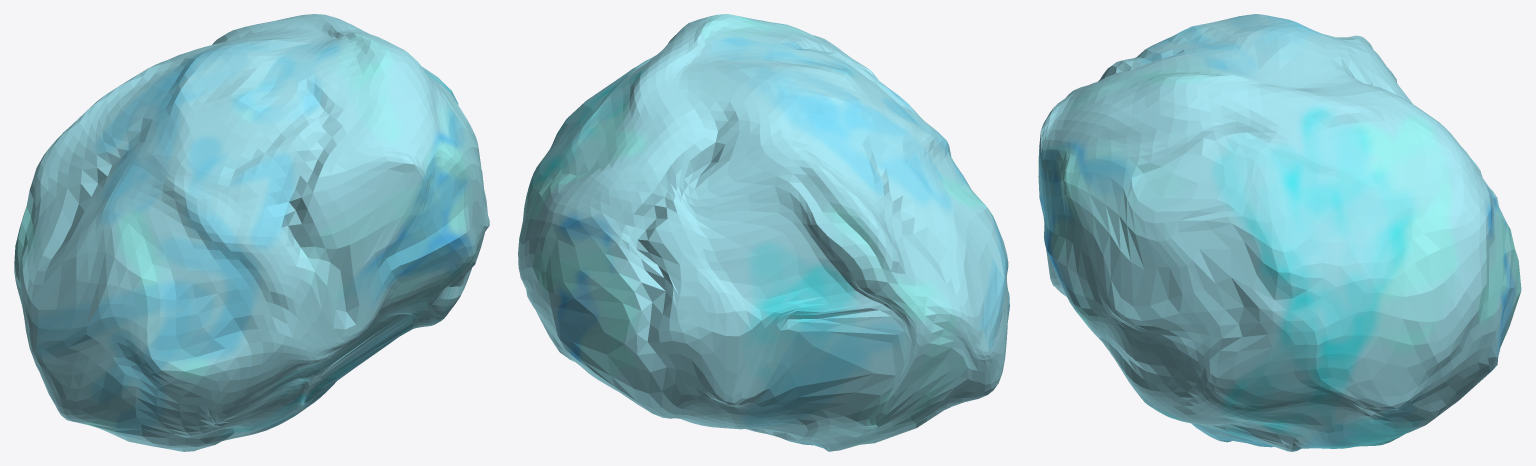
Rendered from comet.glb.
3 views of the same model, side by side, from view 1: azimuth 30°, elevation 25°; view 2: azimuth 150°, elevation 25°; view 3: azimuth 270°, elevation 25° (orthographic). The views are drawn at different scales.
Visible parts, largest first — view 1: Haley's Comet; view 2: Haley's Comet; view 3: Haley's Comet.
Boxes of the visible parts, x1,y1,x2,y2 form: Haley's Comet: [14, 14, 489, 451]; Haley's Comet: [518, 14, 1009, 451]; Haley's Comet: [1038, 14, 1521, 451].
Bounding box in the file's own units: 3.12 × 2.59 × 2.63.
Materials: 1 (1 with a texture image).
